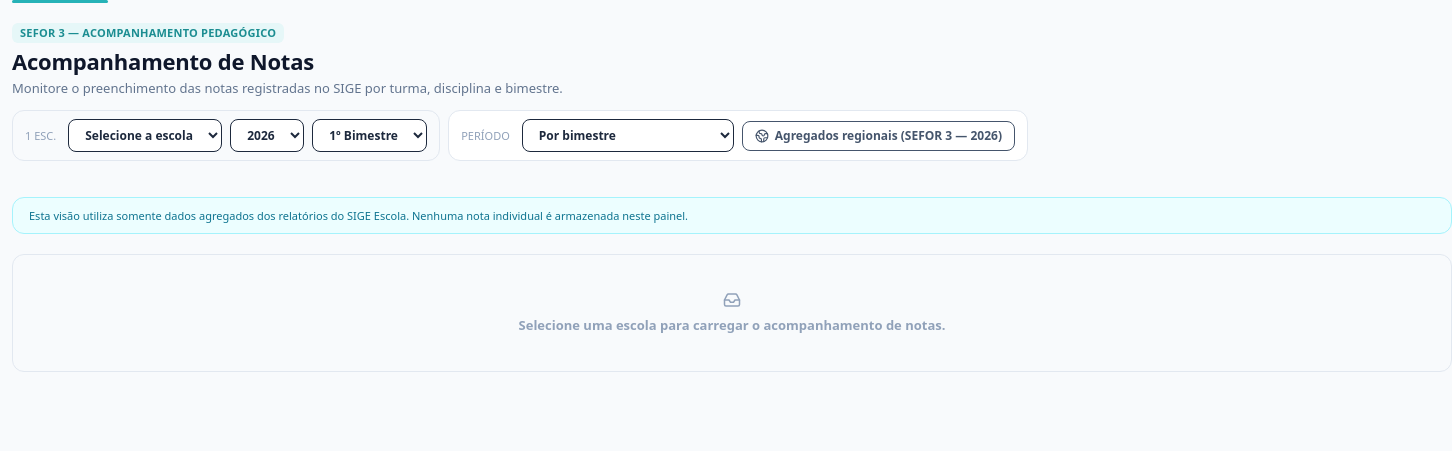
NotasView › falha de leitura de turmas (seção 2 do code review do PR #17) › falha ao carregar turmas mostra aviso com "Tentar novamente" — nunca "nenhuma turma cadastrada"
Select "EEM Diva Cabral" in the dropdown named "Escola": (145,136) [68, 119, 222, 152]
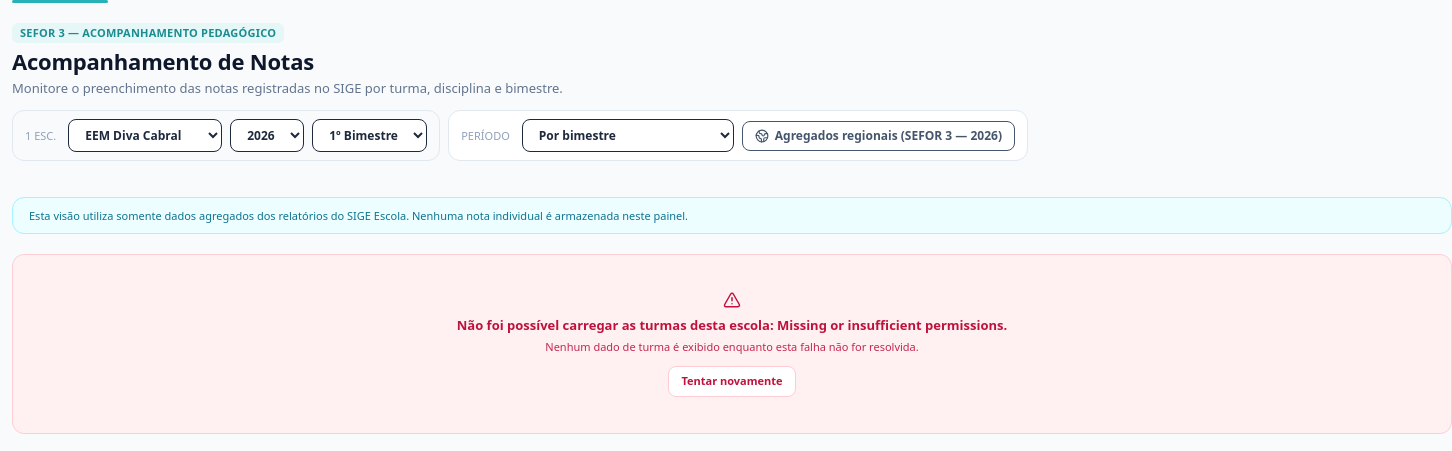
Check: the text "Não foi possível carregar as turmas desta escola" is shown, box [457, 316, 1007, 334]
Check: the button "Tentar novamente" is shown, box [668, 366, 796, 397]
